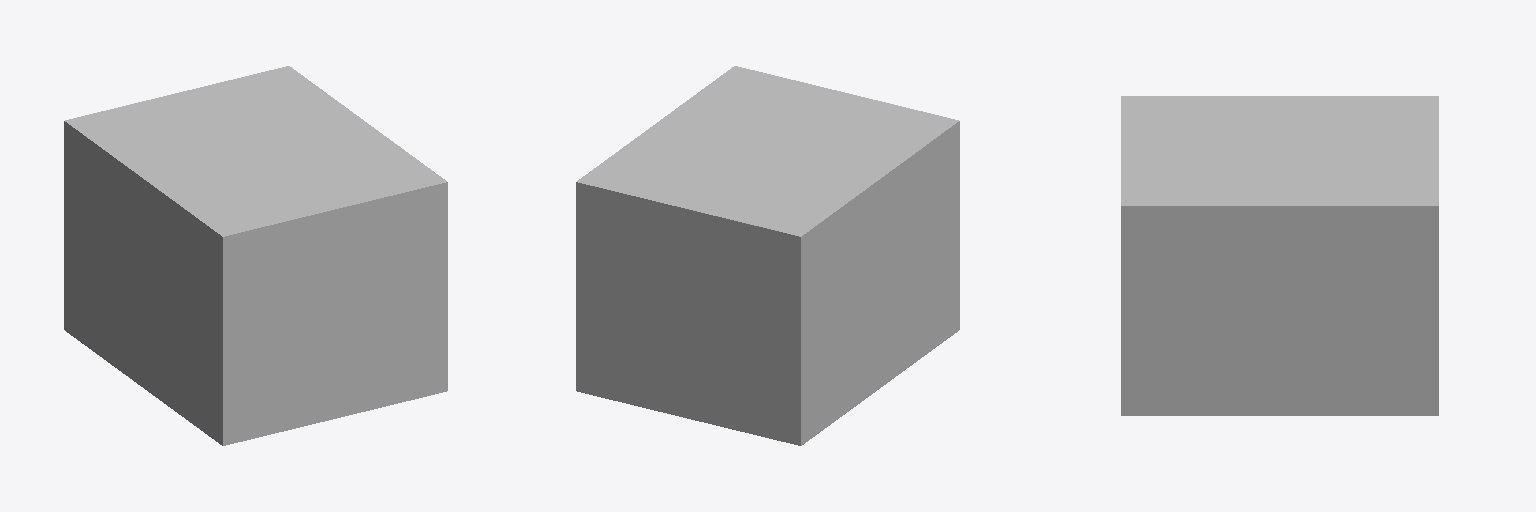
File: body_male.obj
3 views of the same model, side by side, from view 1: azimuth 30°, elevation 25°; view 2: azimuth 150°, elevation 25°; view 3: azimuth 270°, elevation 25° (orthographic).
Visible parts, largest first — view 1: object 1; view 2: object 1; view 3: object 1.
Boxes of the visible parts, x1=… form: object 1: x1=64, y1=66, x2=447, y2=445; object 1: x1=576, y1=66, x2=959, y2=445; object 1: x1=1121, y1=96, x2=1438, y2=415.
Size of the model in its own units: 0.5999 by 0.5333 by 0.7333.